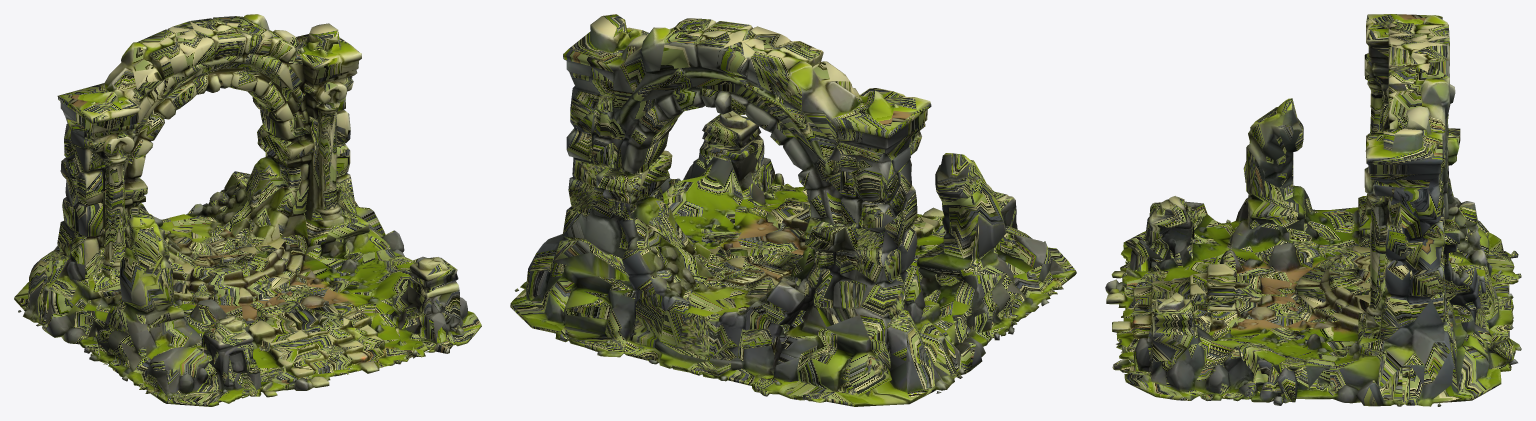
File: Ancient_Gateway_Ruins.glb
The picture shows the model from 3 angles, left to right: view 1: azimuth 30°, elevation 25°; view 2: azimuth 150°, elevation 25°; view 3: azimuth 270°, elevation 25°; orthographic projection. The views are drawn at different scales.
Parts seen in each view (by area): view 1: Ancient_Gateway_Ruins; view 2: Ancient_Gateway_Ruins; view 3: Ancient_Gateway_Ruins.
Part boxes in pixels (bbox=[...]): Ancient_Gateway_Ruins: bbox=[14, 14, 481, 406]; Ancient_Gateway_Ruins: bbox=[510, 14, 1076, 406]; Ancient_Gateway_Ruins: bbox=[1105, 14, 1521, 406].
Bounding box in the file's own units: 1.9 × 1.27 × 1.79.
1 material, 1 textured.
